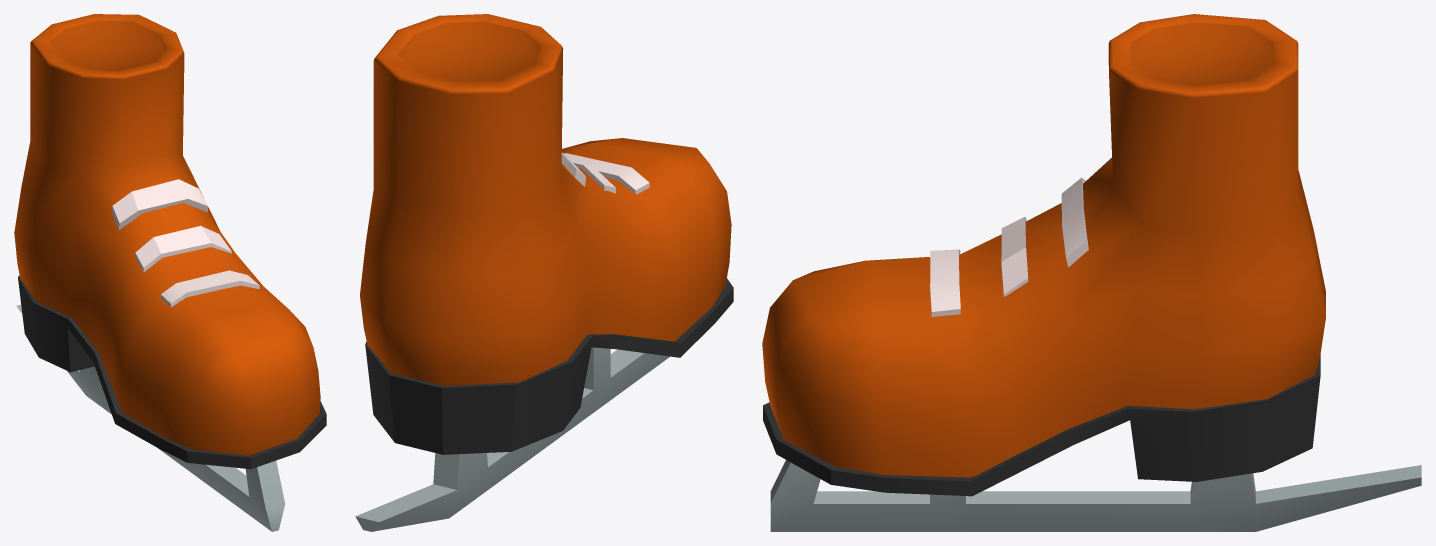
The model's file is ice_skate.fbx.
The picture shows the model from 3 angles, left to right: view 1: azimuth 30°, elevation 25°; view 2: azimuth 150°, elevation 25°; view 3: azimuth 270°, elevation 25°; orthographic projection. The views are drawn at different scales.
Visible parts, largest first — view 1: ice_skate; view 2: ice_skate; view 3: ice_skate.
Boxes of the visible parts, x1,y1,x2,y2 form: ice_skate: (14,14,326,531); ice_skate: (355,14,733,531); ice_skate: (762,14,1421,531).
Bounding box in the file's own units: 13.53 × 26.93 × 33.78.
